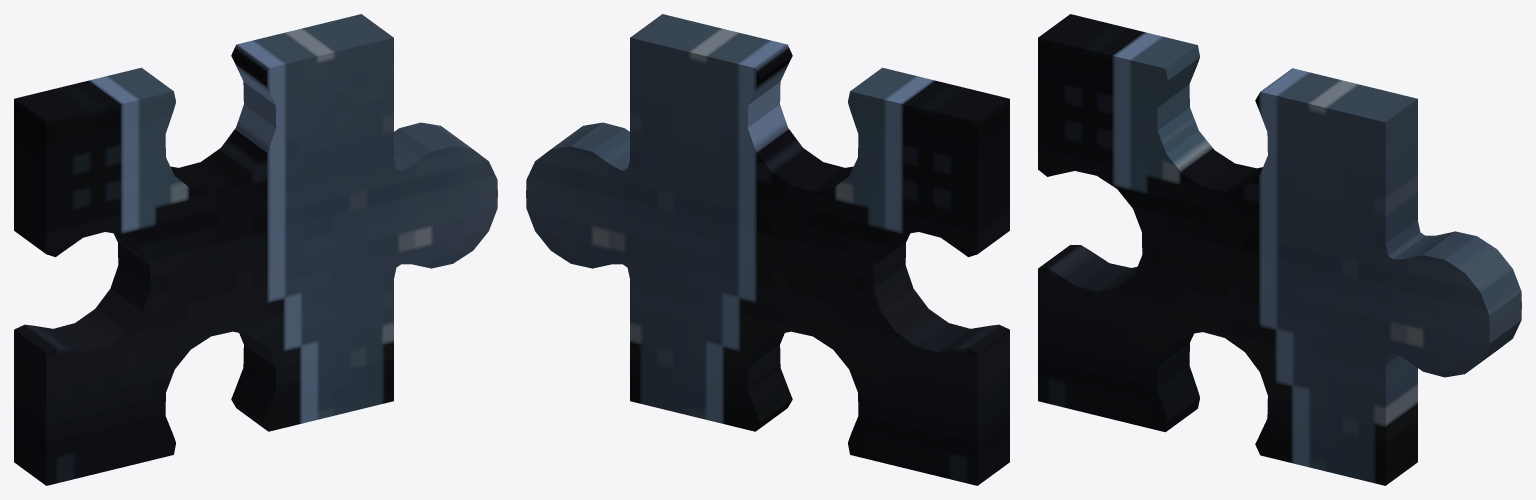
File: Pieces_7_017.fbx
3 views of the same model, side by side, from view 1: azimuth 30°, elevation 25°; view 2: azimuth 150°, elevation 25°; view 3: azimuth 330°, elevation 25° (orthographic).
Visible parts, largest first — view 1: Pieces 7.017; view 2: Pieces 7.017; view 3: Pieces 7.017.
Part boxes in pixels (x1=…): Pieces 7.017: x1=14, y1=14, x2=497, y2=485; Pieces 7.017: x1=526, y1=14, x2=1009, y2=485; Pieces 7.017: x1=1038, y1=14, x2=1521, y2=485.
Size of the model in its own units: 105 by 80.52 by 12.98.
